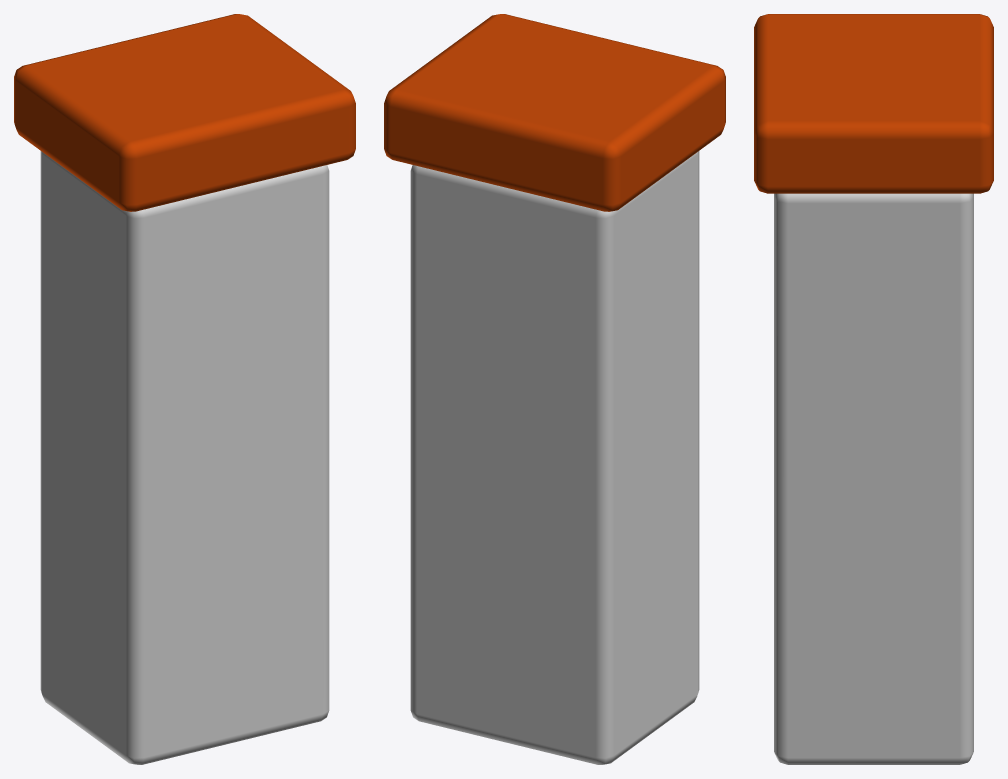
File: fuel-pump-shell-atlas-e24d2734.glb
3 views of the same model, side by side, from view 1: azimuth 30°, elevation 25°; view 2: azimuth 150°, elevation 25°; view 3: azimuth 270°, elevation 25° (orthographic). The views are drawn at different scales.
Parts seen in each view (by area): view 1: Fuel-pump-shellBody; view 2: Fuel-pump-shellBody; view 3: Fuel-pump-shellBody.
Boxes of the visible parts, x1,y1,x2,y2 form: Fuel-pump-shellBody: (14, 14, 355, 764); Fuel-pump-shellBody: (384, 14, 725, 764); Fuel-pump-shellBody: (754, 14, 993, 764).
Size of the model in its own units: 0.7 by 1.8 by 0.6.
